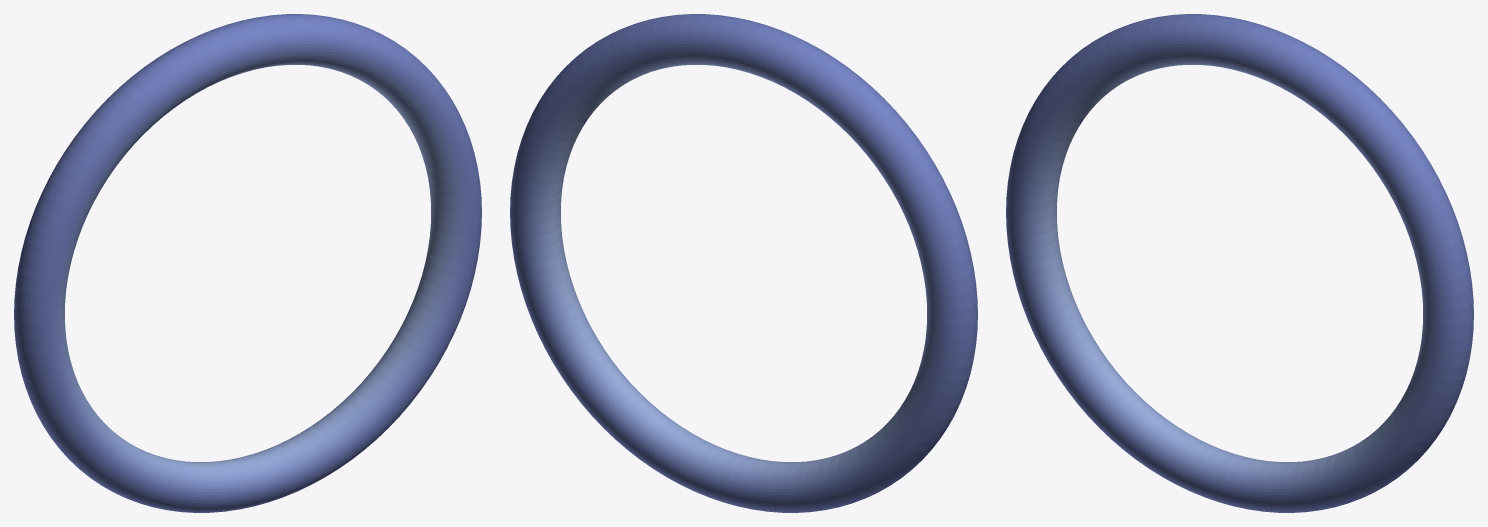
3 renders of one model, left to right at view 1: azimuth 30°, elevation 25°; view 2: azimuth 150°, elevation 25°; view 3: azimuth 330°, elevation 25°, orthographic.
Parts seen in each view (by area): view 1: world; view 2: world; view 3: world.
Boxes of the visible parts, left/top/right/bottom form: world: left=14, top=14, right=481, bottom=512; world: left=510, top=14, right=977, bottom=512; world: left=1006, top=14, right=1473, bottom=512.
Bounding box in the file's own units: 26.53 × 26.53 × 2.53.
